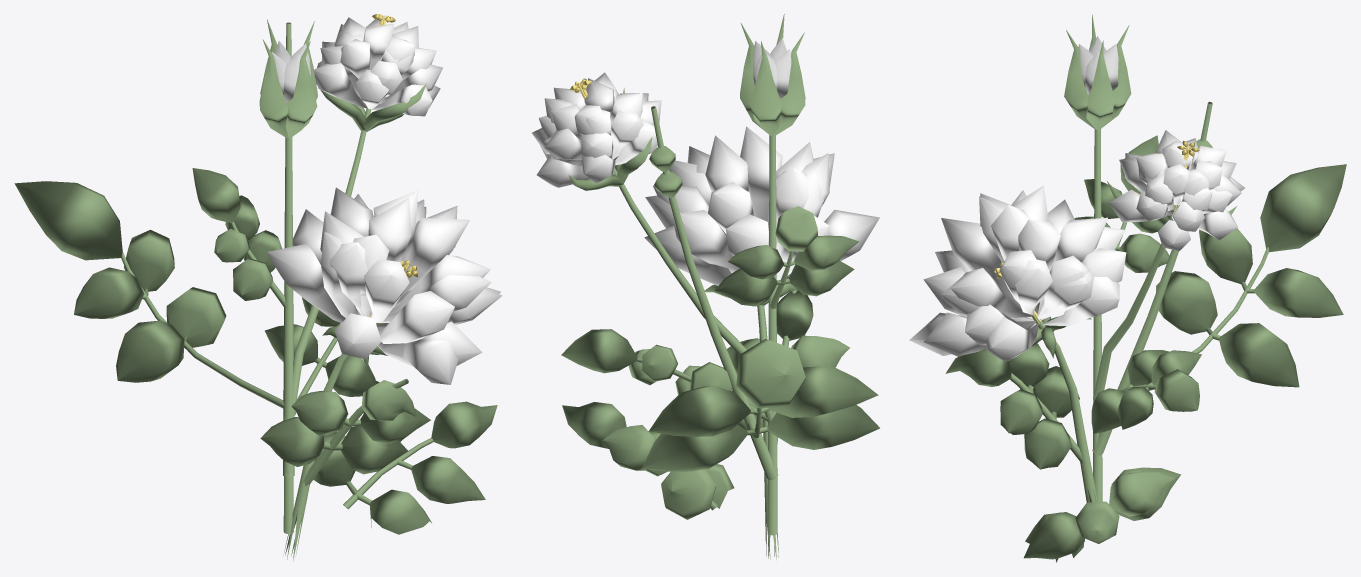
The picture shows the model from 3 angles, left to right: view 1: azimuth 30°, elevation 25°; view 2: azimuth 150°, elevation 25°; view 3: azimuth 270°, elevation 25°; orthographic projection. The views are drawn at different scales.
Visible parts, largest first — view 1: d7ce73a9; view 2: d7ce73a9; view 3: d7ce73a9.
Boxes of the visible parts, x1,y1,x2,y2 form: d7ce73a9: (14,14,502,561); d7ce73a9: (532,14,879,559); d7ce73a9: (909,14,1346,562).
Bounding box in the file's own units: 0.0844 × 0.1159 × 0.0909.
